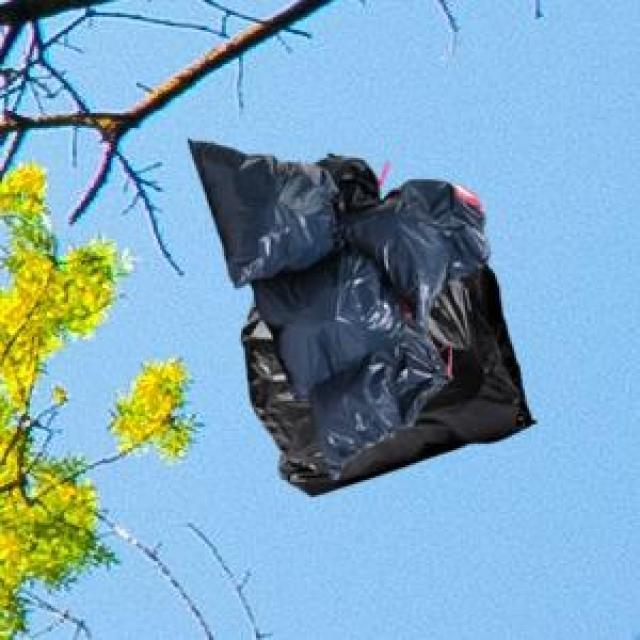Trashbag: (212, 144, 348, 271), (373, 176, 501, 299), (275, 255, 398, 380), (331, 344, 442, 465)
